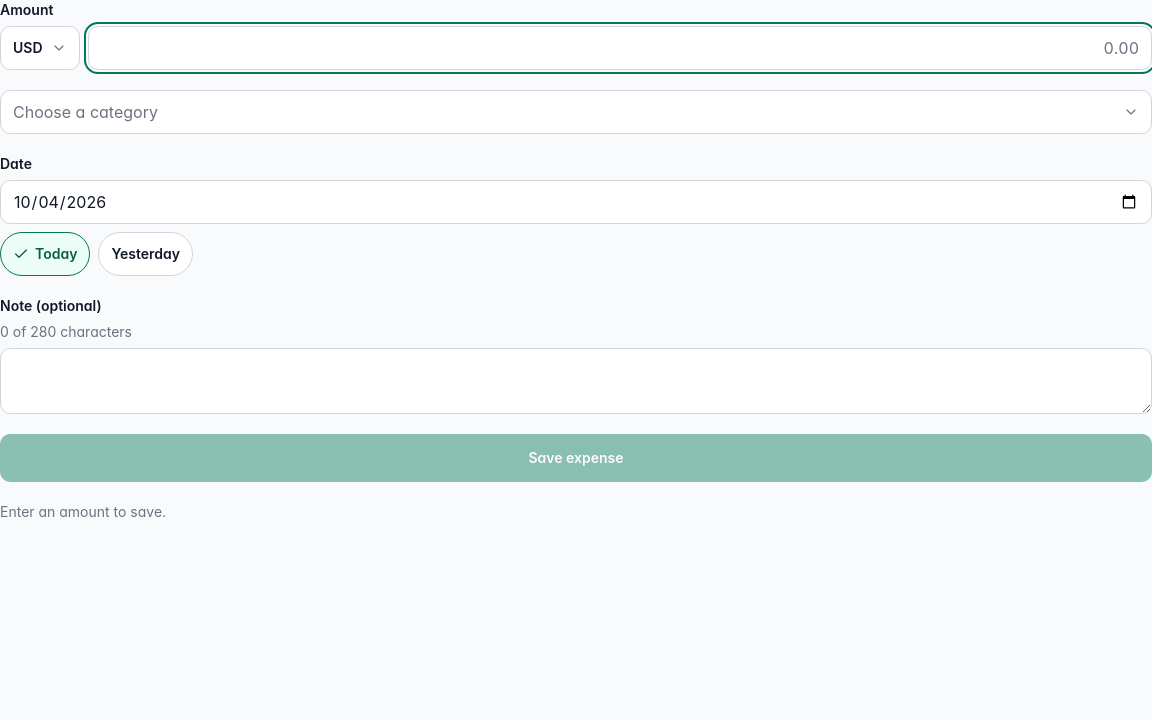
Test: TransactionForm (FR-06, FR-07, FR-24) › shows the ADR-005 message before Save for a too-small conversion
The width and height of the screenshot is (1152, 720).
Click the button with aria-label "Currency: USD".
click(40, 48)  # box [0,26,80,70]
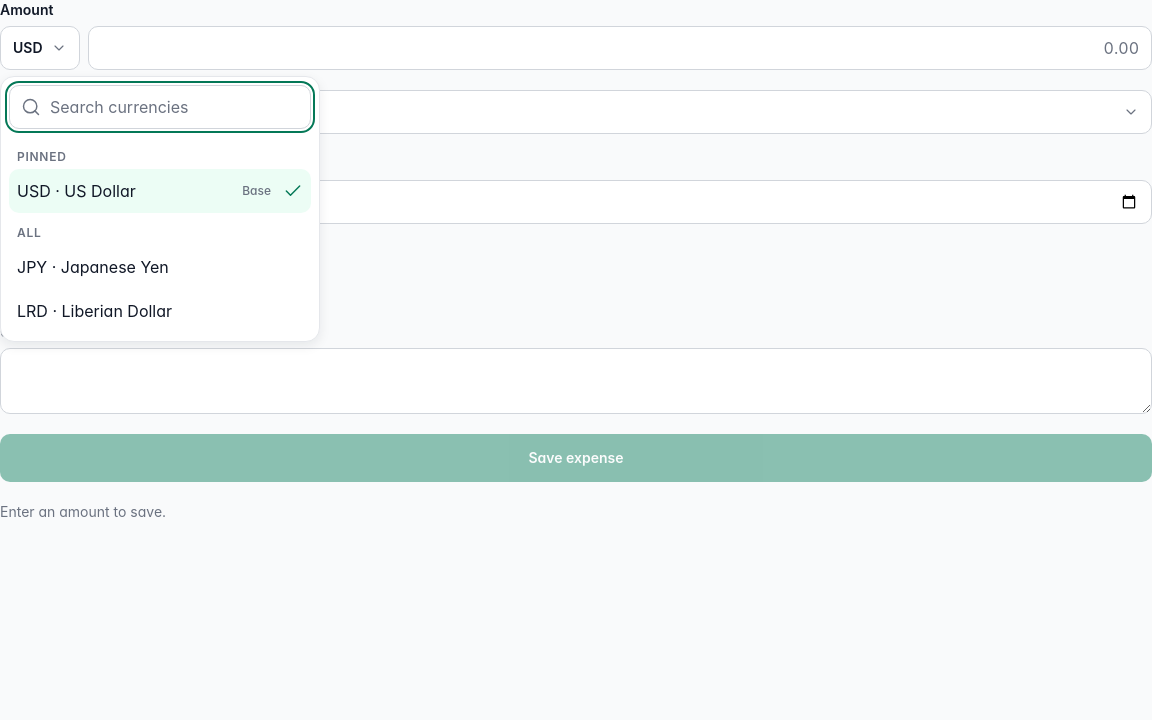
Click the button "LRD · Liberian Dollar".
click(160, 311)  # box [9,289,311,333]
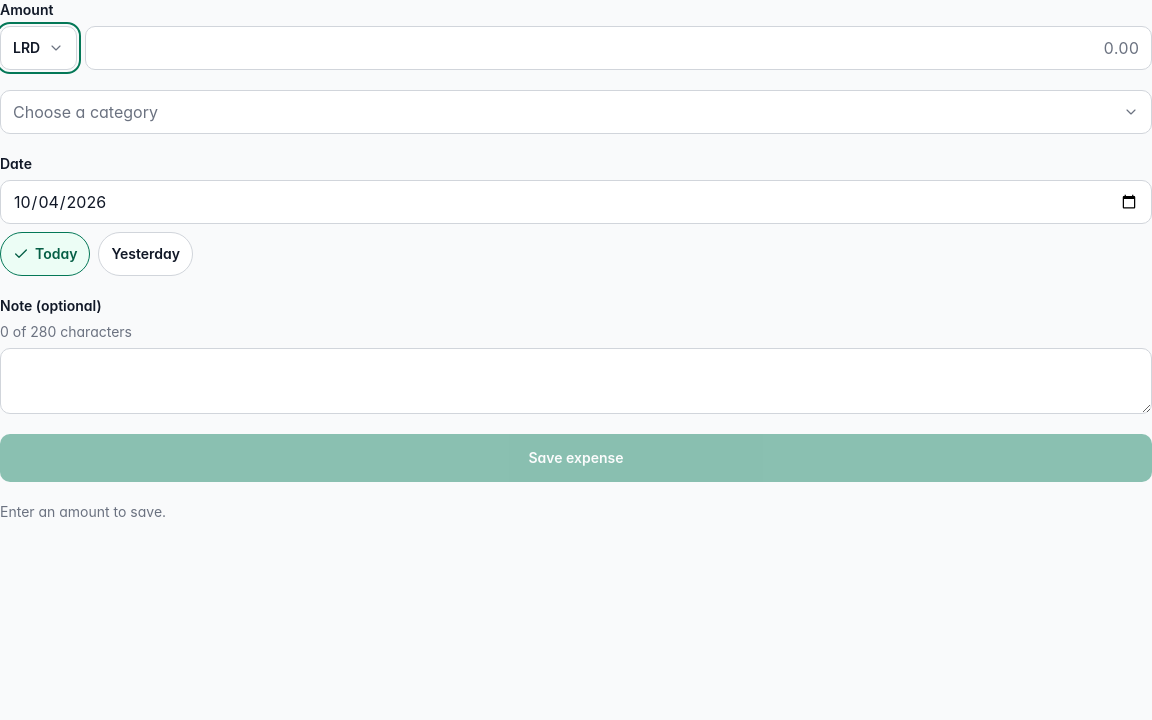
Type "0.5" into the field labelled "Amount".
click(619, 48); type("0.5")  # box [85,26,1151,70]
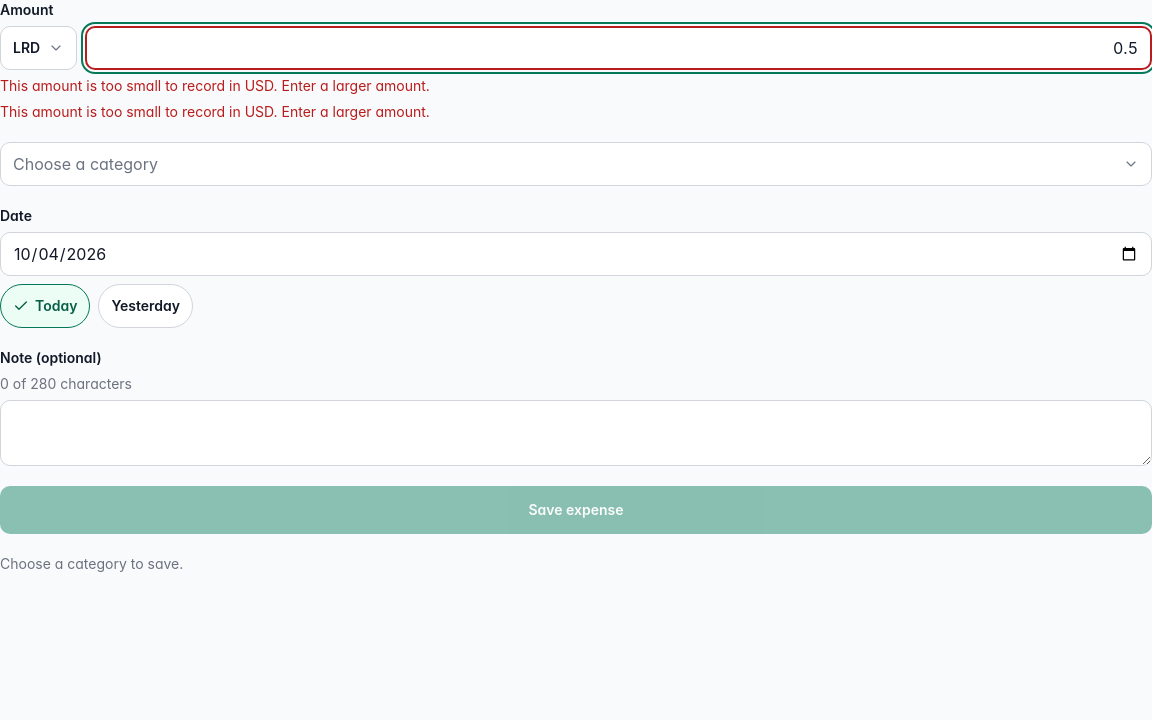
Result: the 1st text "too small to record in USD" is shown at [0,77,430,94]
